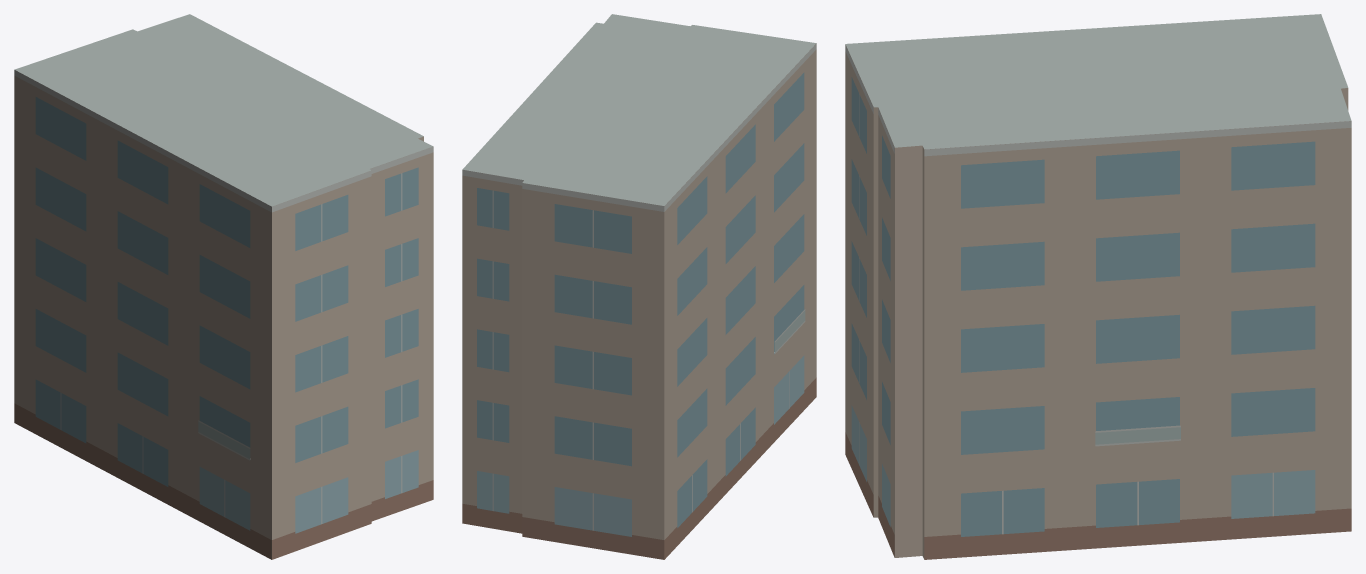
File: survey-upis-32808401.glb
3 views of the same model, side by side, from view 1: azimuth 30°, elevation 25°; view 2: azimuth 150°, elevation 25°; view 3: azimuth 270°, elevation 25° (orthographic). The views are drawn at different scales.
Visible parts, largest first — view 1: survey-upis-32808401.tmp; view 2: survey-upis-32808401.tmp; view 3: survey-upis-32808401.tmp.
Part boxes in pixels (x1,y1,x2,y2): survey-upis-32808401.tmp: [14, 14, 433, 559]; survey-upis-32808401.tmp: [462, 14, 816, 559]; survey-upis-32808401.tmp: [845, 14, 1351, 559].
Bounding box in the file's own units: 10.38 × 14.65 × 16.39.
